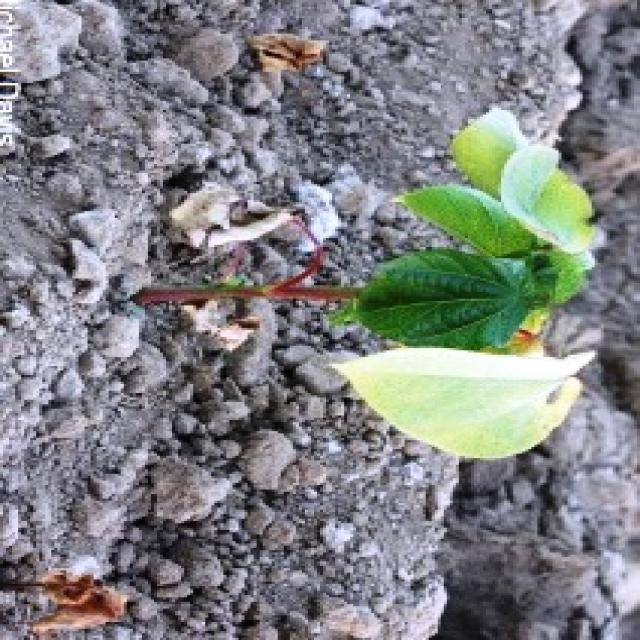Fusarium Wilt: (122, 98, 610, 468)
